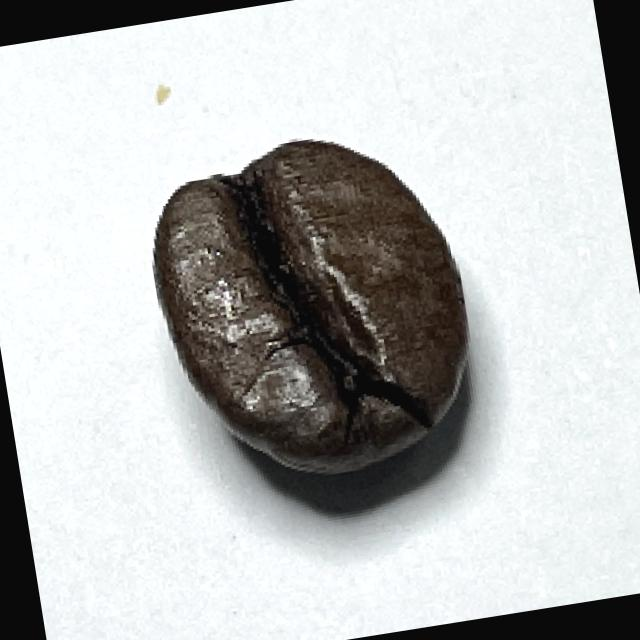bean: (127, 110, 494, 501)
